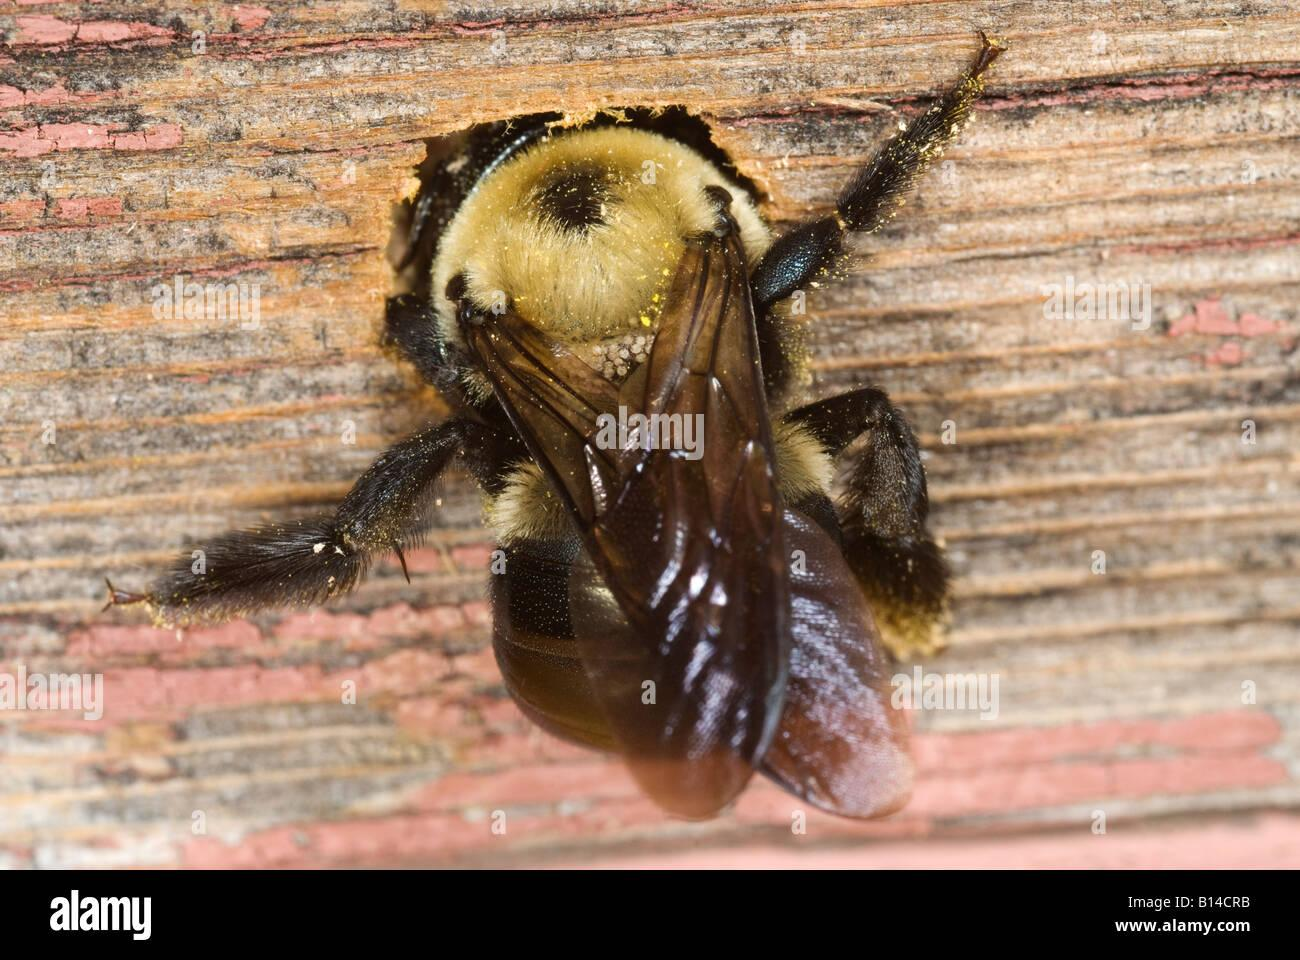Xylocopa: (104, 52, 1036, 838)
